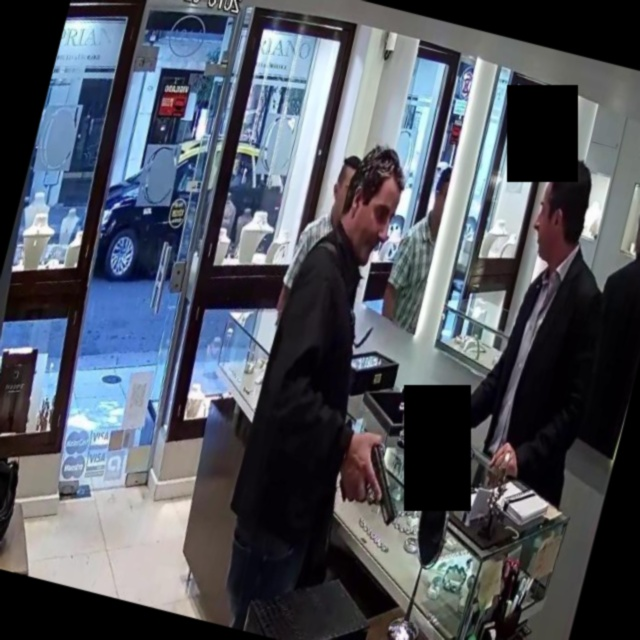gun: (321, 406, 424, 543)
